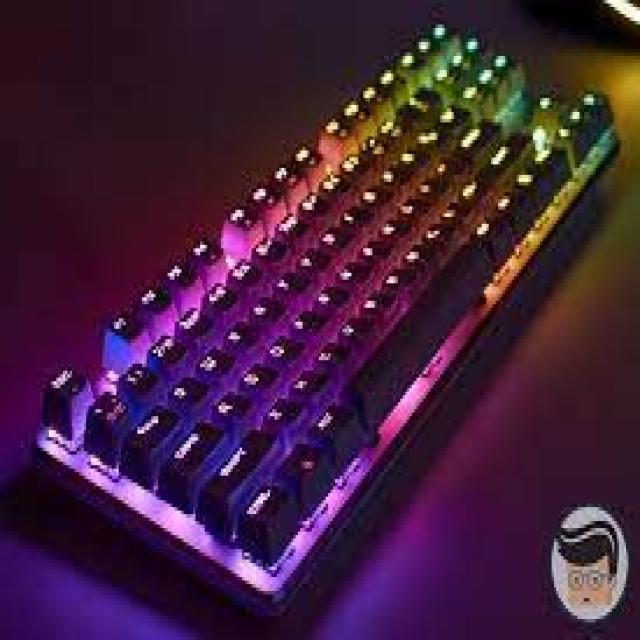keyboard: (28, 19, 624, 591)
